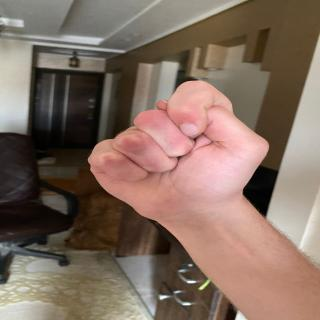FAA: (76, 73, 286, 211)
